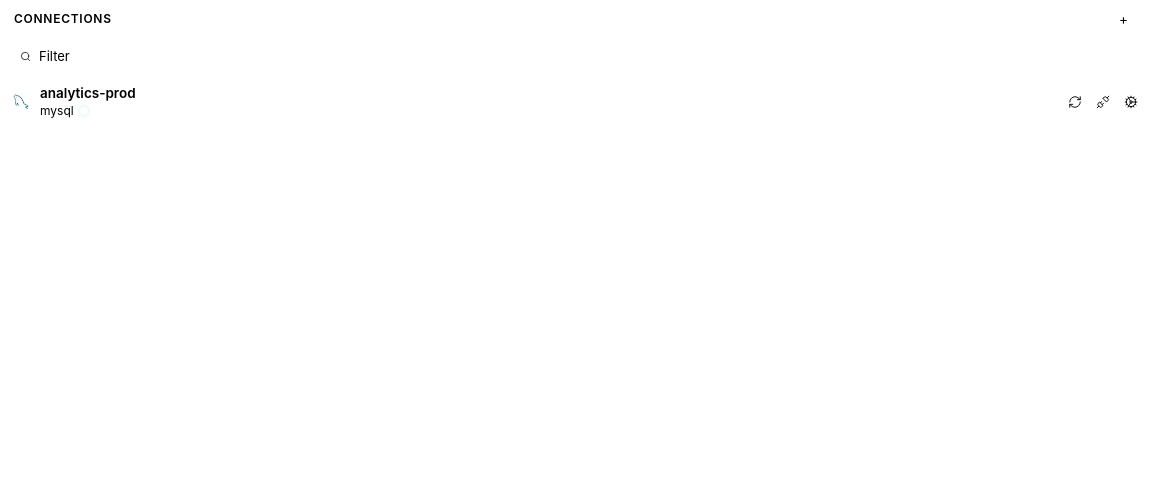
it: CombinedConnectionsTree › filters MySQL database schemas with multi-select
Click the button with test id "expand-toggle-c1": (88, 93) top-left (0, 78), bottom-right (1151, 126)
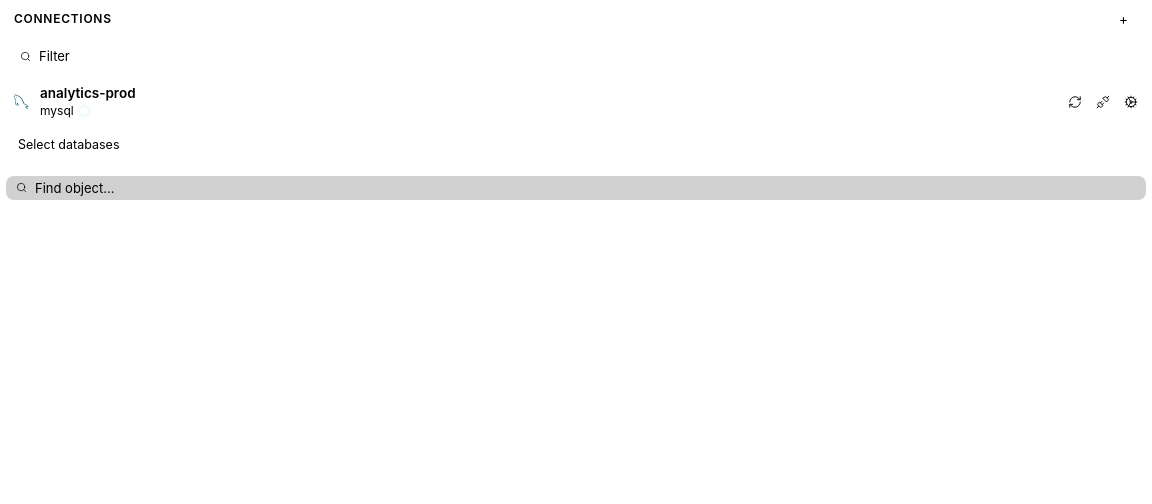
Click the button with test id "schema-select-c1": (69, 145) top-left (10, 132), bottom-right (1142, 160)
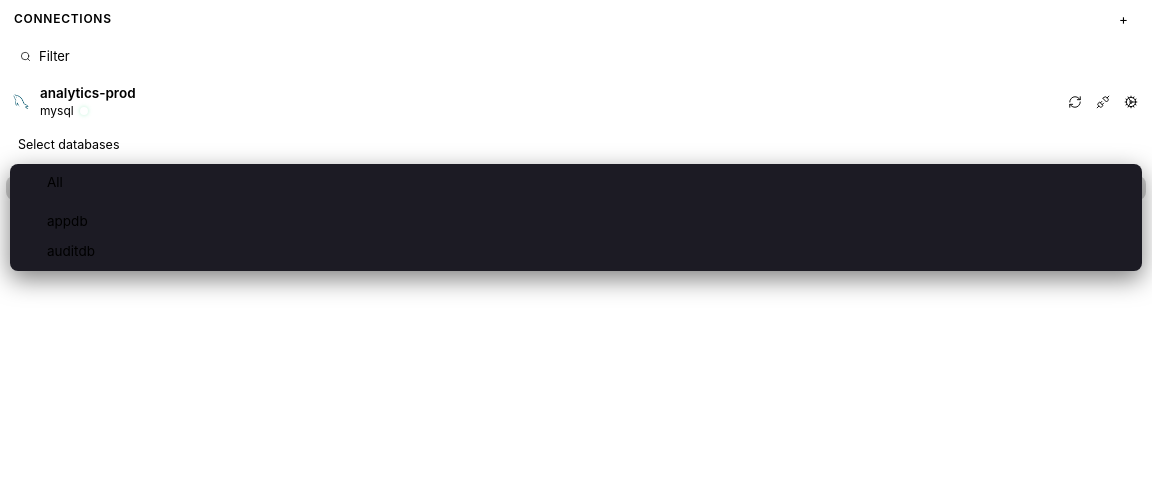
# Lazy source: select all schemas, then uncheck auditdb to narrow to appdb.
Click the option with test id "multiselect-all": (55, 182) top-left (47, 174), bottom-right (63, 190)
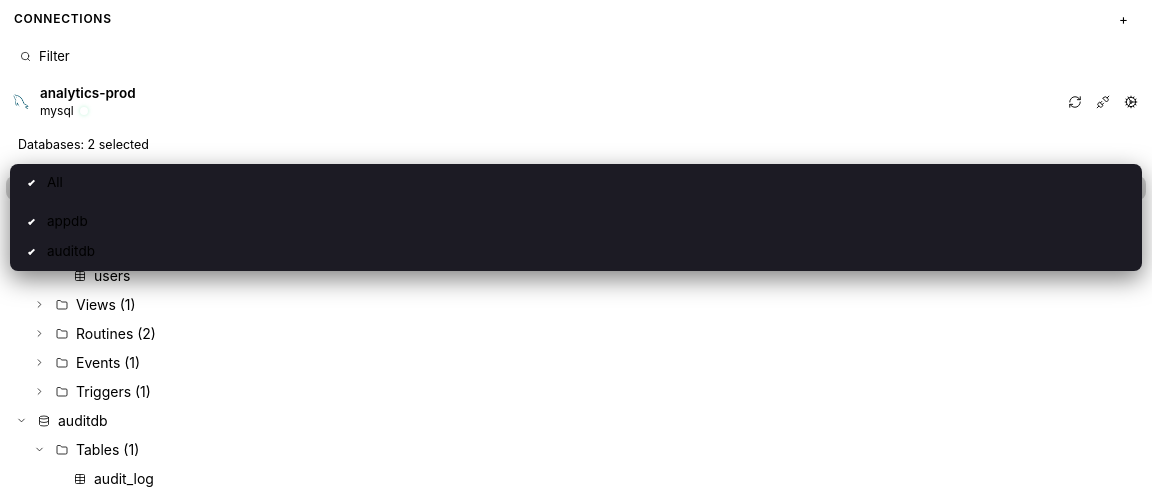
Click the option "auditdb": (59, 251) top-left (24, 243), bottom-right (95, 259)
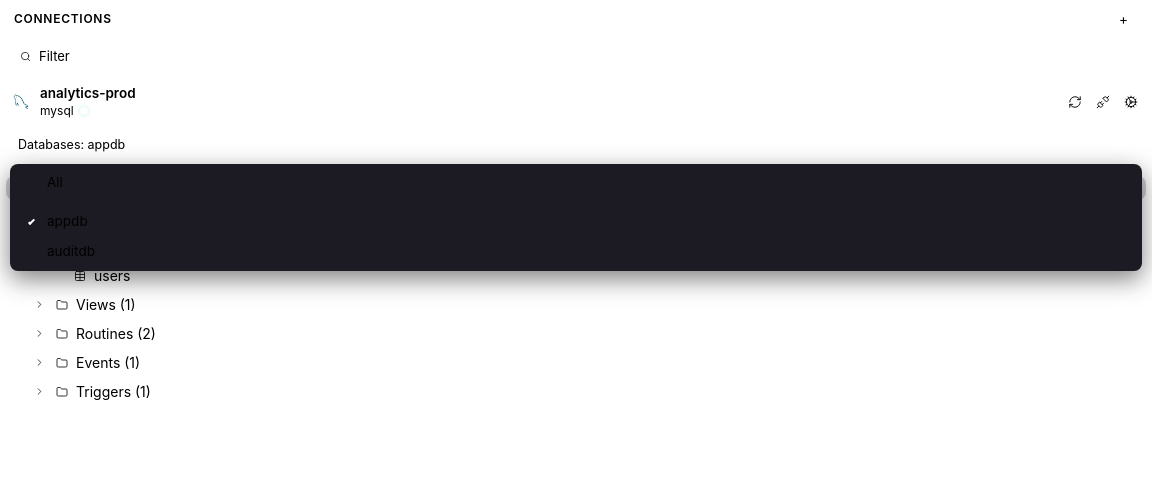
Result: the element with test id "schema-row-appdb" is shown at top-left (16, 209), bottom-right (100, 226)
Result: the element with test id "schema-row-auditdb" is gone
